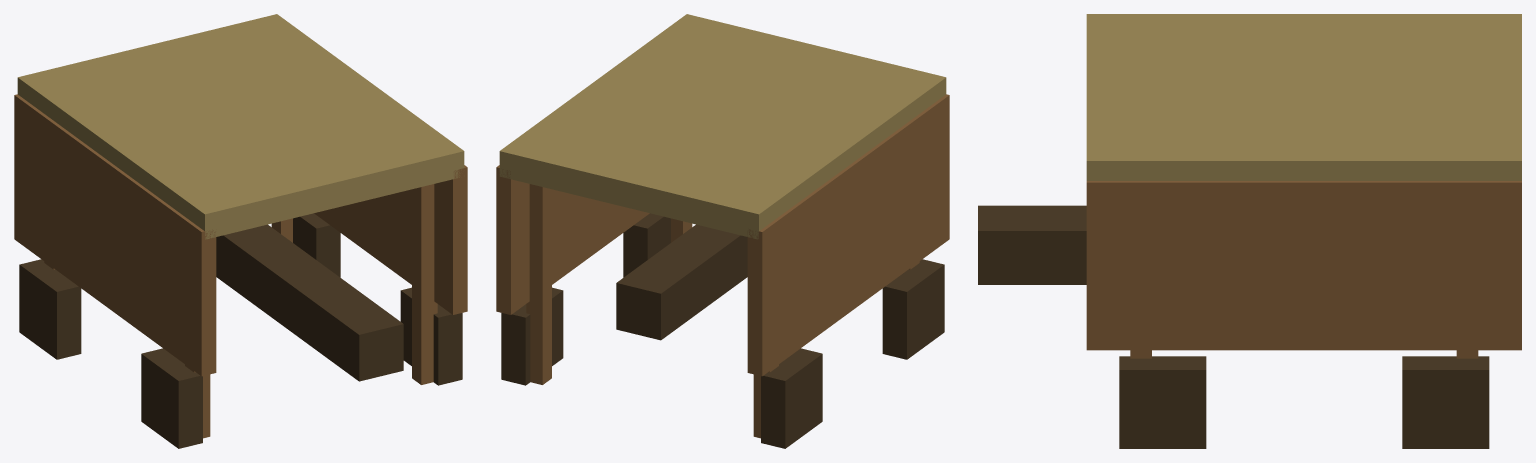
Rendered from ram.glb.
3 renders of one model, left to right at view 1: azimuth 30°, elevation 25°; view 2: azimuth 150°, elevation 25°; view 3: azimuth 270°, elevation 25°, orthographic. The views are drawn at different scales.
Parts seen in each view (by area): view 1: part_4, part_5, part_7, part_6, part_8, part_9, part_3, part_11, part_10, part_1; view 2: part_4, part_5, part_7, part_6, part_9, part_8, part_2, part_10, part_11, part_0; view 3: part_6, part_4, part_7, part_10, part_11.
Part boxes in pixels (left/top/right/bottom): part_4: left=17, top=14, right=464, bottom=239; part_5: left=14, top=94, right=216, bottom=376; part_7: left=216, top=224, right=403, bottom=381; part_6: left=314, top=165, right=467, bottom=314; part_8: left=19, top=259, right=81, bottom=359; part_9: left=141, top=348, right=202, bottom=448; part_3: left=412, top=184, right=437, bottom=384; part_11: left=400, top=287, right=462, bottom=385; part_10: left=293, top=213, right=340, bottom=277; part_1: left=185, top=364, right=210, bottom=438; part_4: left=499, top=14, right=946, bottom=239; part_5: left=747, top=94, right=949, bottom=376; part_7: left=616, top=224, right=747, bottom=340; part_6: left=496, top=165, right=649, bottom=314; part_9: left=882, top=259, right=944, bottom=359; part_8: left=761, top=348, right=822, bottom=448; part_2: left=526, top=184, right=551, bottom=384; part_10: left=501, top=287, right=563, bottom=385; part_11: left=623, top=213, right=670, bottom=277; part_0: left=753, top=364, right=778, bottom=438; part_6: left=1086, top=181, right=1521, bottom=350; part_4: left=1086, top=14, right=1521, bottom=180; part_7: left=978, top=205, right=1086, bottom=284; part_10: left=1402, top=356, right=1489, bottom=448; part_11: left=1119, top=356, right=1206, bottom=448.
Bounding box in the file's own units: 3.5 × 2.85 × 5.
